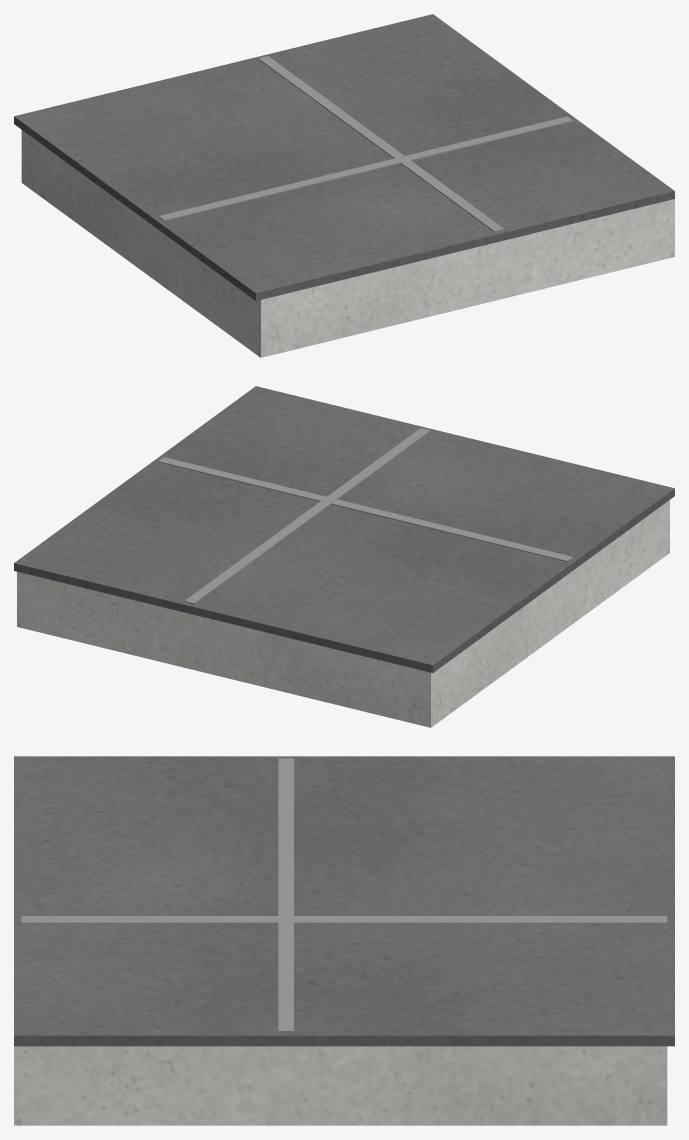
Rendered from floor_membrane_r_e0_30_0_30.glb.
3 renders of one model, top to bottom at view 1: azimuth 30°, elevation 25°; view 2: azimuth 150°, elevation 25°; view 3: azimuth 270°, elevation 25°, orthographic. The views are drawn at different scales.
Parts seen in each view (by area): view 1: floor_membrane_r_e0_30_0_30_membrane, floor_membrane_r_e0_30_0_30_plaster, floor_membrane_r_e0_30_0_30_seam; view 2: floor_membrane_r_e0_30_0_30_membrane, floor_membrane_r_e0_30_0_30_plaster, floor_membrane_r_e0_30_0_30_seam; view 3: floor_membrane_r_e0_30_0_30_membrane, floor_membrane_r_e0_30_0_30_plaster, floor_membrane_r_e0_30_0_30_seam.
Boxes of the visible parts, bbox=[...] form: floor_membrane_r_e0_30_0_30_membrane: bbox=[14, 14, 674, 300]; floor_membrane_r_e0_30_0_30_plaster: bbox=[21, 130, 674, 357]; floor_membrane_r_e0_30_0_30_seam: bbox=[158, 56, 573, 232]; floor_membrane_r_e0_30_0_30_membrane: bbox=[14, 386, 674, 672]; floor_membrane_r_e0_30_0_30_plaster: bbox=[17, 500, 669, 727]; floor_membrane_r_e0_30_0_30_seam: bbox=[158, 428, 573, 604]; floor_membrane_r_e0_30_0_30_membrane: bbox=[14, 756, 674, 1046]; floor_membrane_r_e0_30_0_30_plaster: bbox=[14, 1046, 667, 1125]; floor_membrane_r_e0_30_0_30_seam: bbox=[21, 758, 667, 1032].
Size of the model in its own units: 1.7 by 0.259 by 1.7.
3 materials, 2 textured.
